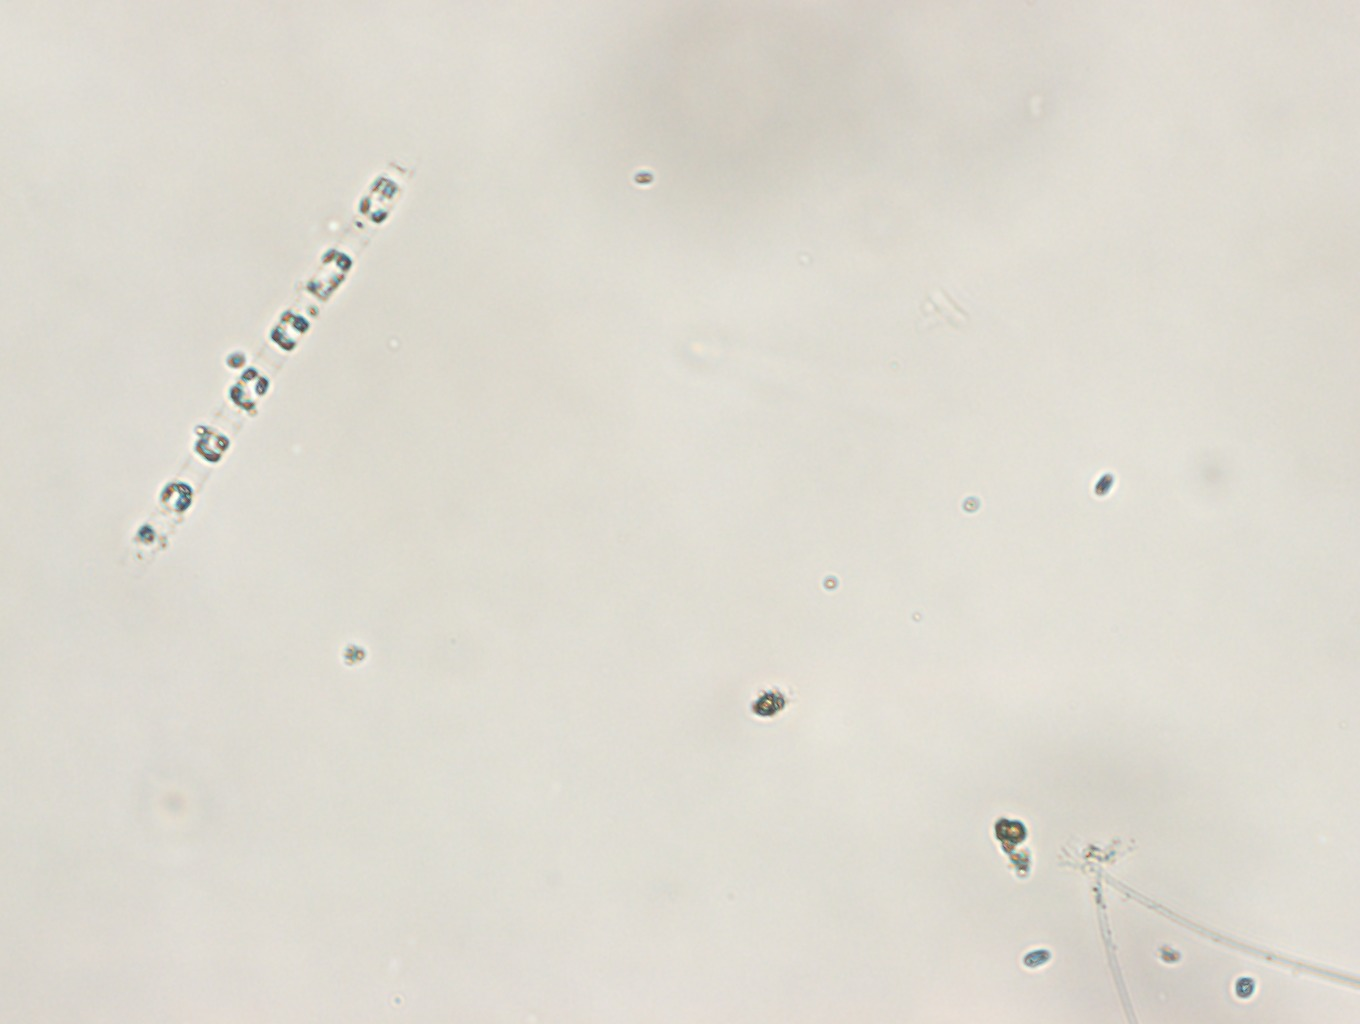skeletonema: (130, 160, 409, 569)
